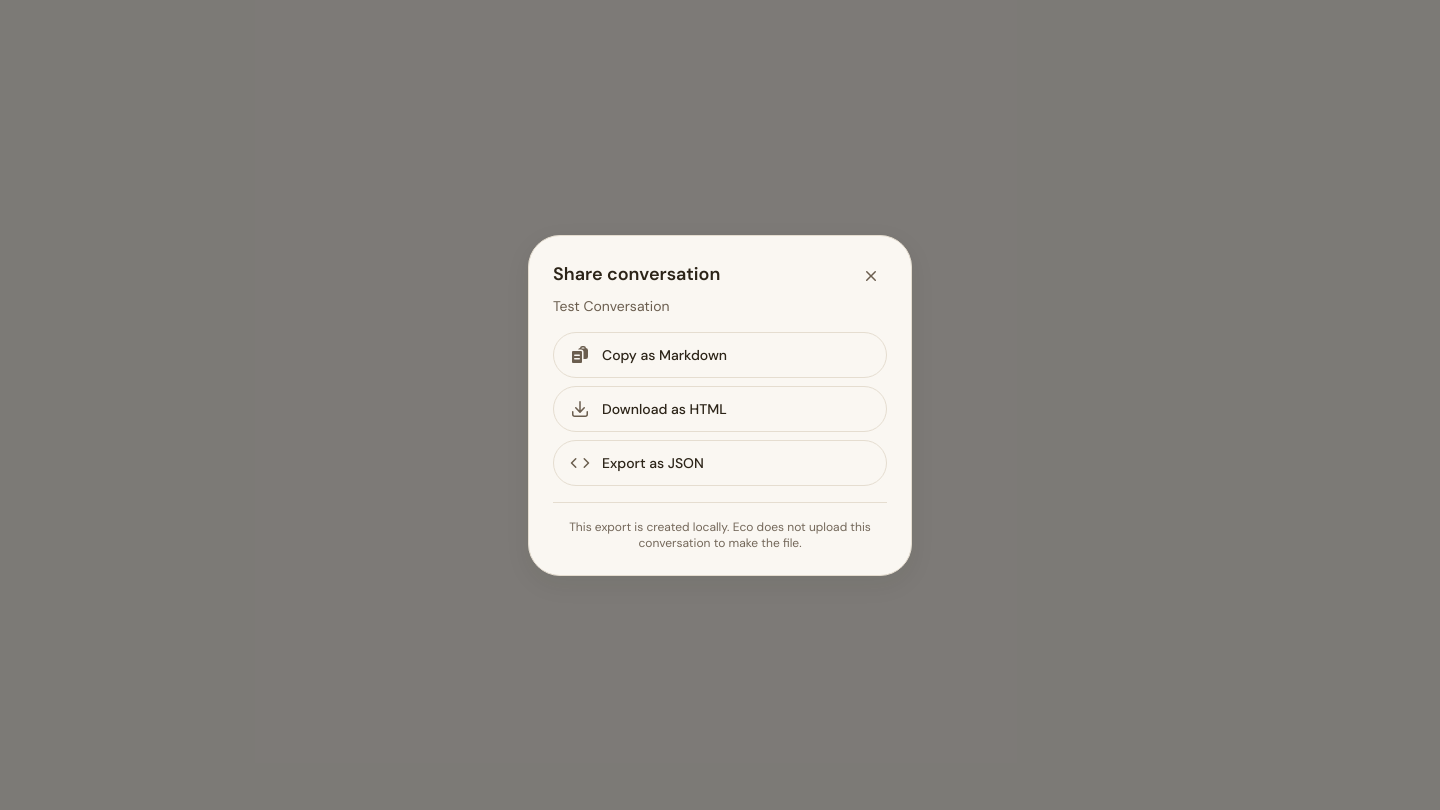
Test: ShareDialog › shows retry guidance when markdown copy fails
Click the button "Copy as Markdown": x=720, y=354 553,332 -> 887,378
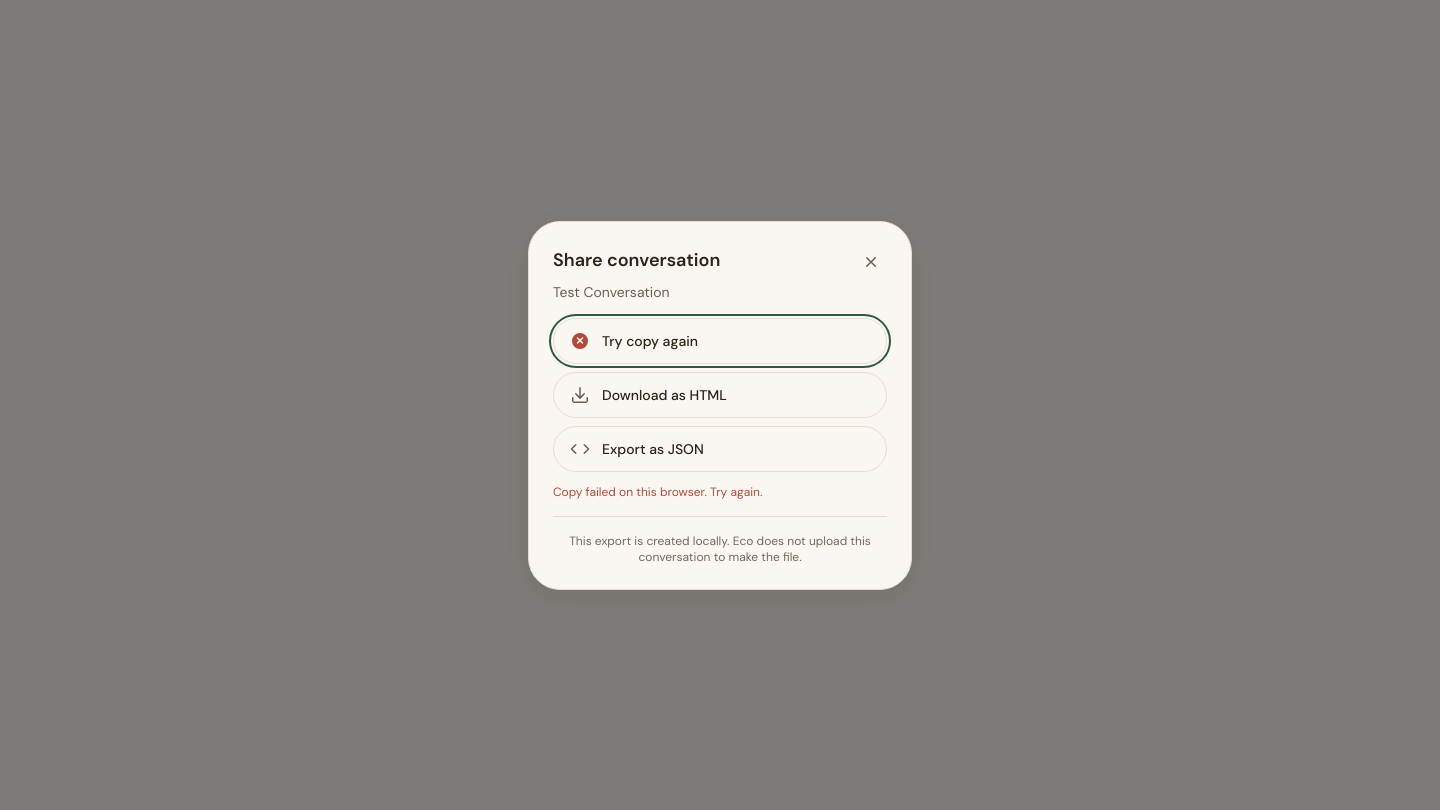
Expected: the button "Try copy again" is shown, 553,318 -> 887,364
Expected: the text "Copy failed on this browser. Try again." is shown, 553,484 -> 762,500
